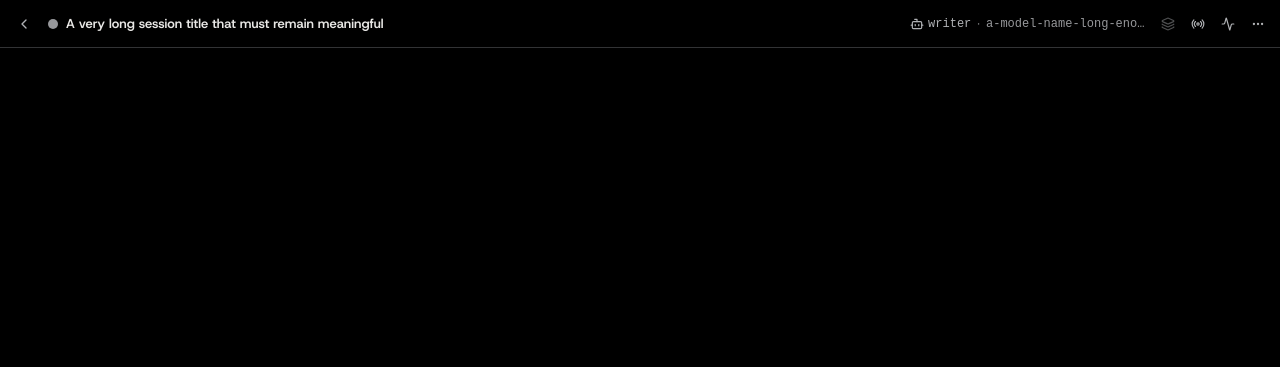
Scenario: connected top-bar identity › hides top-bar lifecycle mutations while preserving read navigation under paired read-only authority
Double-click the heading "A very long session title that must remain meaningful" at (225, 24), box [66,14,384,32]
Press the mouse on the button named "More" at (1258, 24), box [1244,10,1272,38]
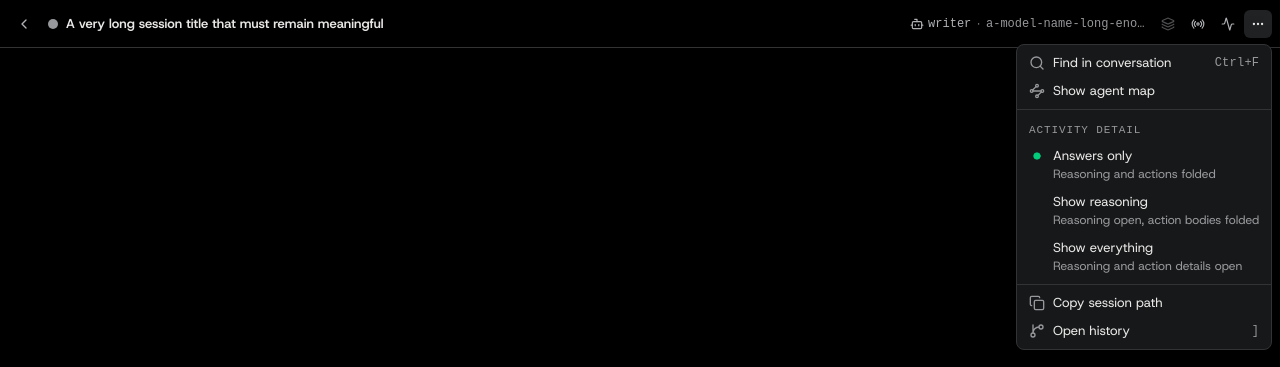
Expected: the menu shows "Find in conversation", [1053,54,1171,71]
Expected: the menu shows "Show agent map", [1053,82,1155,99]
